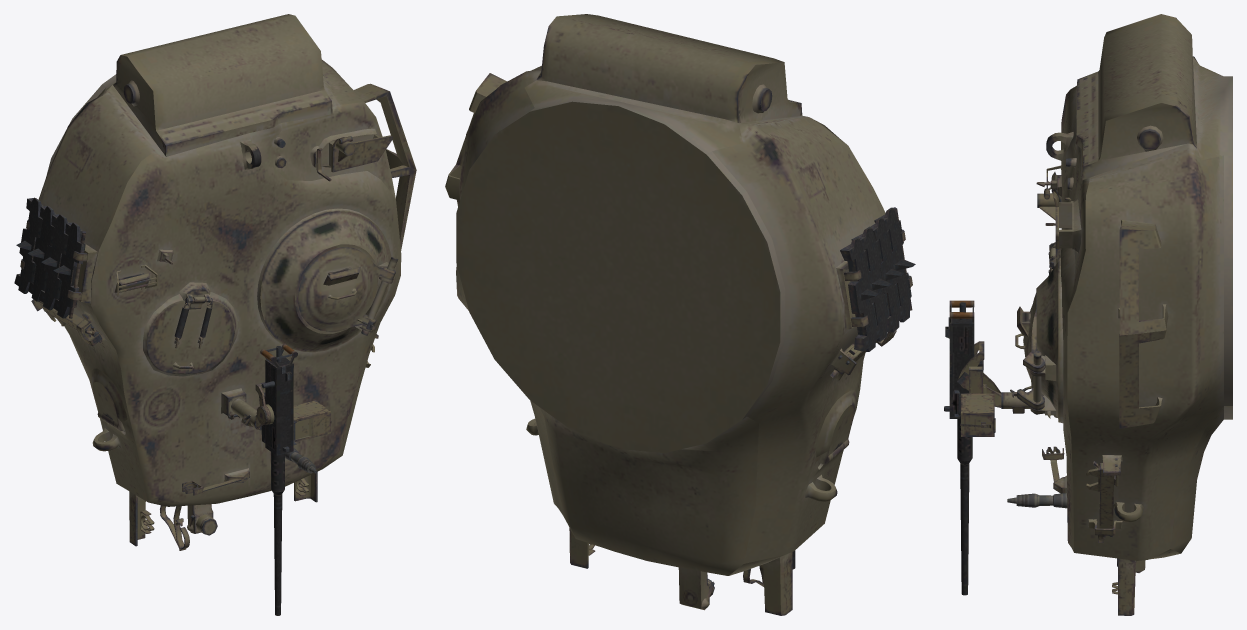
The model's file is Turret_02.glb.
The picture shows the model from 3 angles, left to right: view 1: azimuth 30°, elevation 25°; view 2: azimuth 150°, elevation 25°; view 3: azimuth 270°, elevation 25°; orthographic projection. The views are drawn at different scales.
Visible parts, largest first — view 1: set_0_group_0; view 2: set_0_group_0; view 3: set_0_group_0.
Part boxes in pixels (x1,y1,x2,y2): set_0_group_0: [14, 14, 416, 615]; set_0_group_0: [445, 14, 915, 615]; set_0_group_0: [944, 14, 1232, 615].
Bounding box in the file's own units: 2.7 × 3.47 × 1.66.
Materials: 1 (1 with a texture image).
